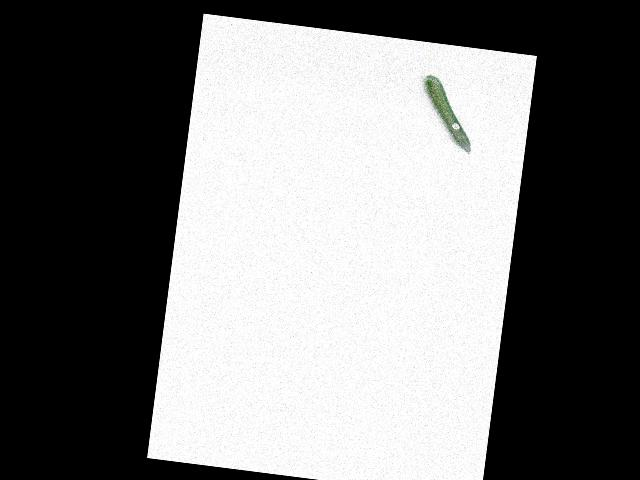cucumber: (416, 75, 479, 154)
